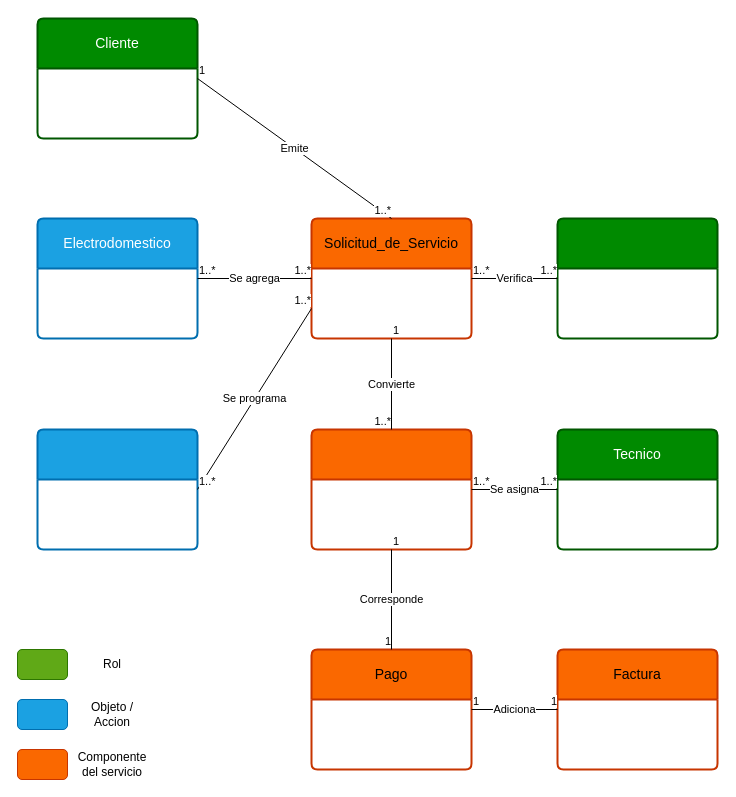
Some shapes in this 736 by 797 pixel diagram are drawn without their labels. Here are the shapes that lost their labels. From the top down, the centre of each, then its label:
At pixel 637 278: "Admin".
At pixel 117 489: "Servicio".
At pixel 391 489: "Orden_de_Trabajo".
